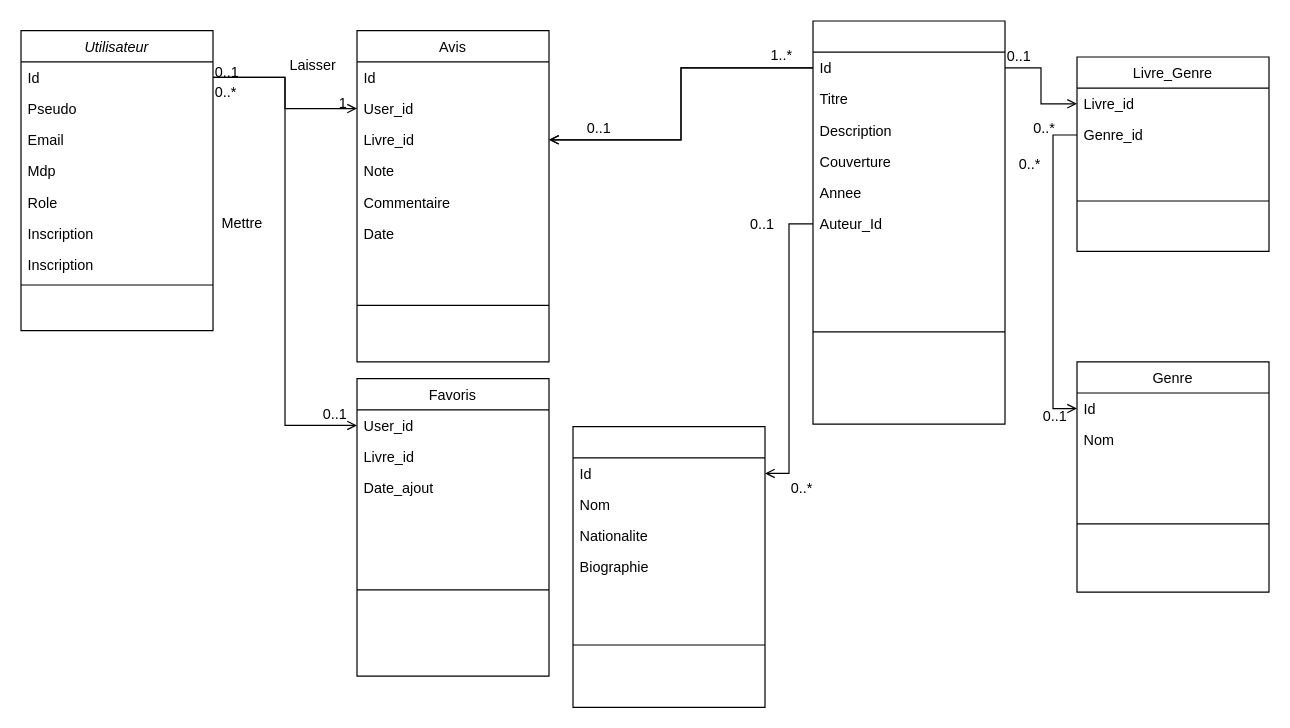
This 1290x728 diagram has some shape labels left out. The shapes that lost their labels are listed below. From the top down, each one's box as (x1, y1, x2, y2) in pixels, then its label:
(812, 20, 1005, 424): Livre
(572, 425, 765, 707): Auteur
